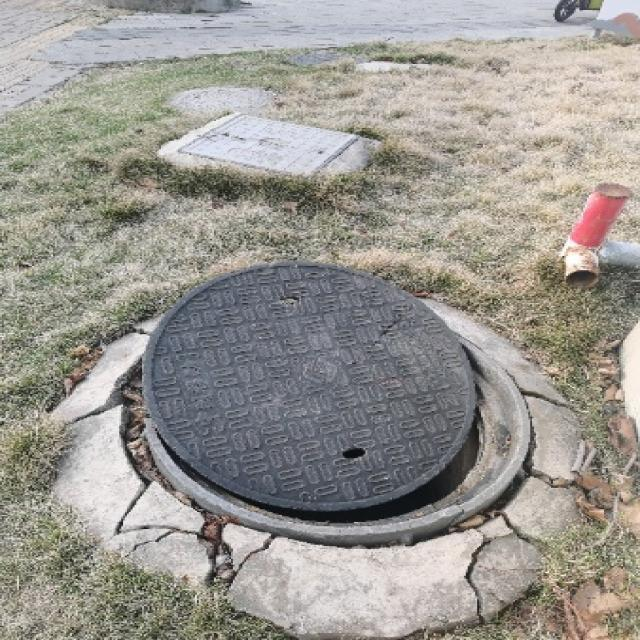Faulty: (111, 257, 584, 609)
Good: (144, 101, 416, 194)
